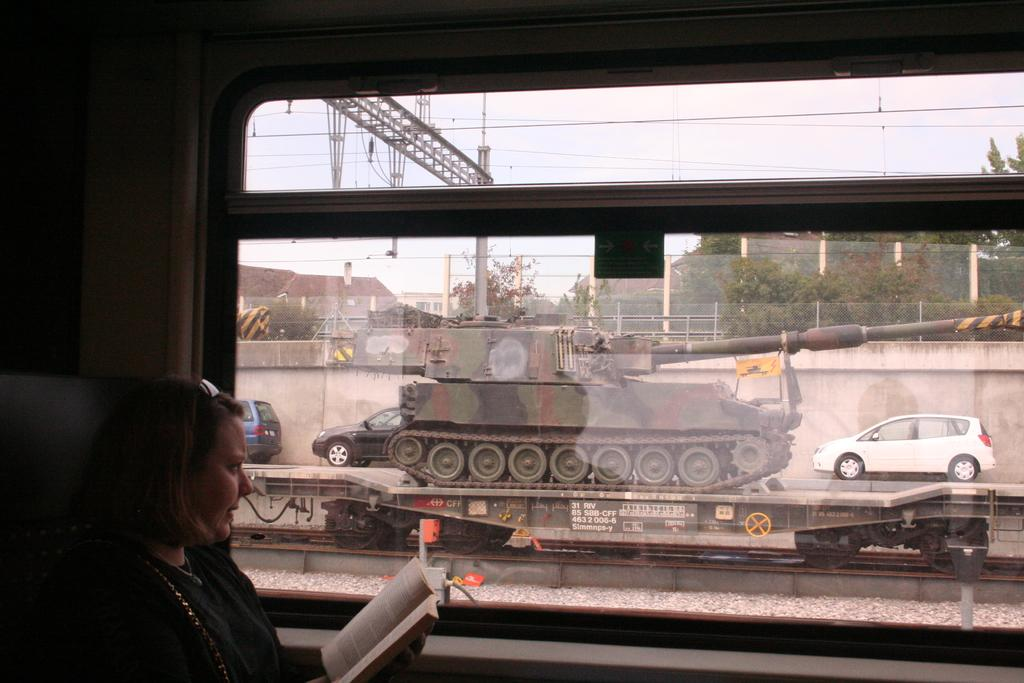Tank: (379, 308, 1023, 494)
